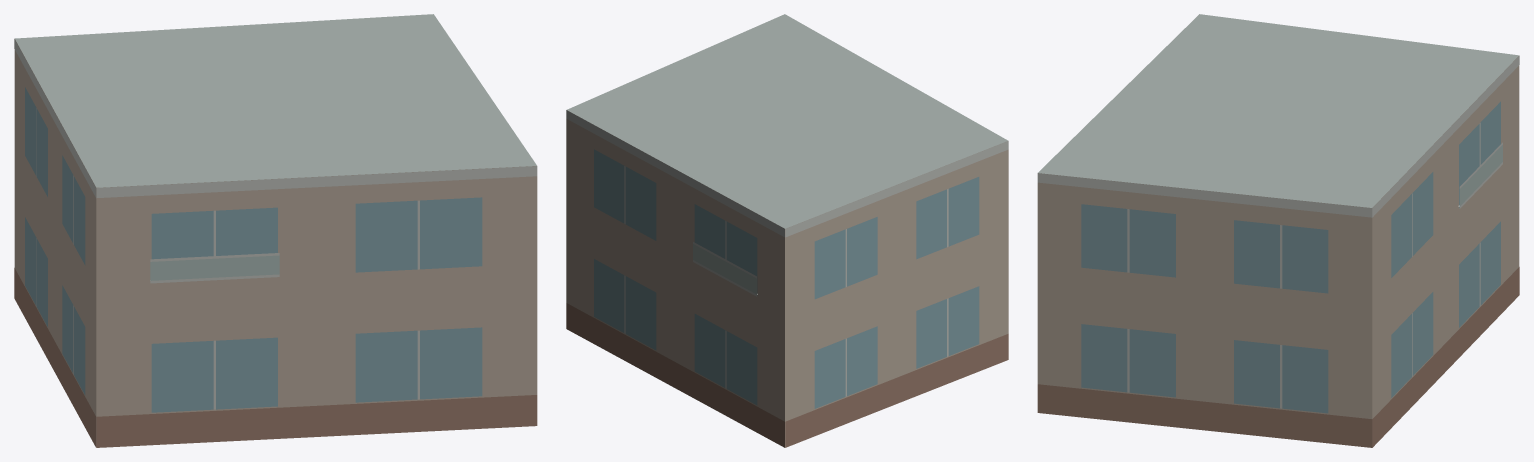
File: survey-upis-32723659.glb
3 views of the same model, side by side, from view 1: azimuth 30°, elevation 25°; view 2: azimuth 150°, elevation 25°; view 3: azimuth 270°, elevation 25° (orthographic). The views are drawn at different scales.
Visible parts, largest first — view 1: survey-upis-32723659.tmp; view 2: survey-upis-32723659.tmp; view 3: survey-upis-32723659.tmp.
Part boxes in pixels (bbox=[...]): survey-upis-32723659.tmp: bbox=[14, 14, 537, 447]; survey-upis-32723659.tmp: bbox=[566, 14, 1008, 447]; survey-upis-32723659.tmp: bbox=[1037, 14, 1519, 447].
Bounding box in the file's own units: 10.59 × 6.1 × 11.12.
